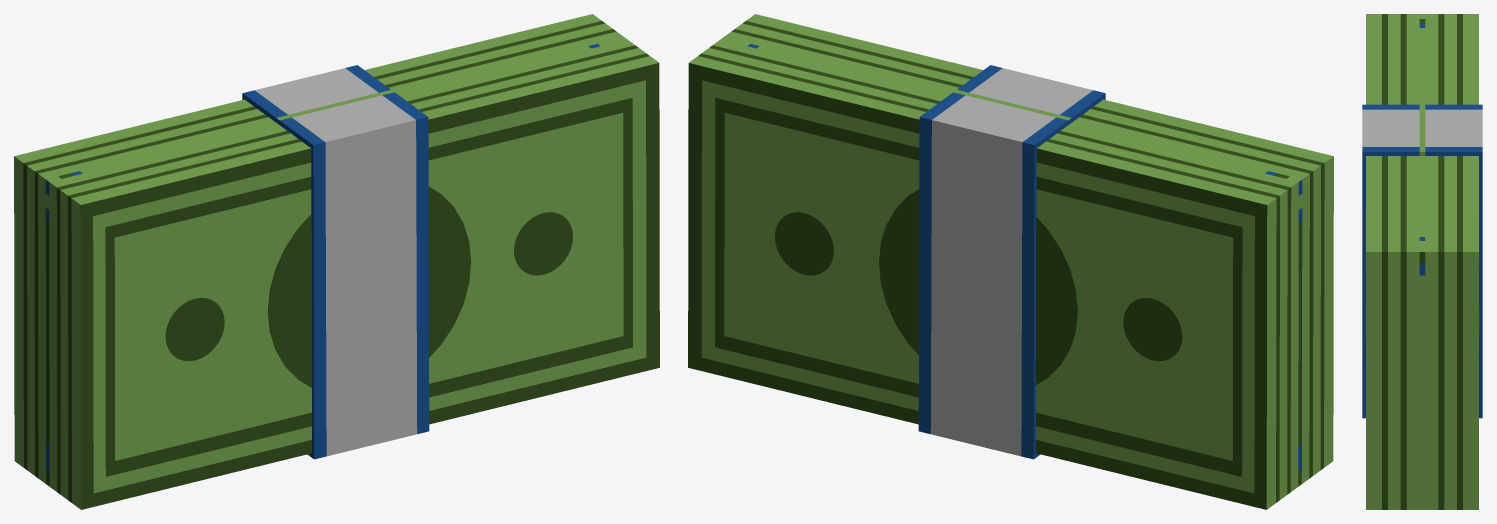
Rendered from Money.fbx.
3 views of the same model, side by side, from view 1: azimuth 30°, elevation 25°; view 2: azimuth 150°, elevation 25°; view 3: azimuth 270°, elevation 25° (orthographic). The views are drawn at different scales.
Parts seen in each view (by area): view 1: Money; view 2: Money; view 3: Money.
Boxes of the visible parts, bbox=[...] form: Money: bbox=[14, 14, 659, 509]; Money: bbox=[688, 14, 1333, 509]; Money: bbox=[1362, 14, 1482, 509].
Size of the model in its own units: 44.32 by 9.41 by 23.01.
